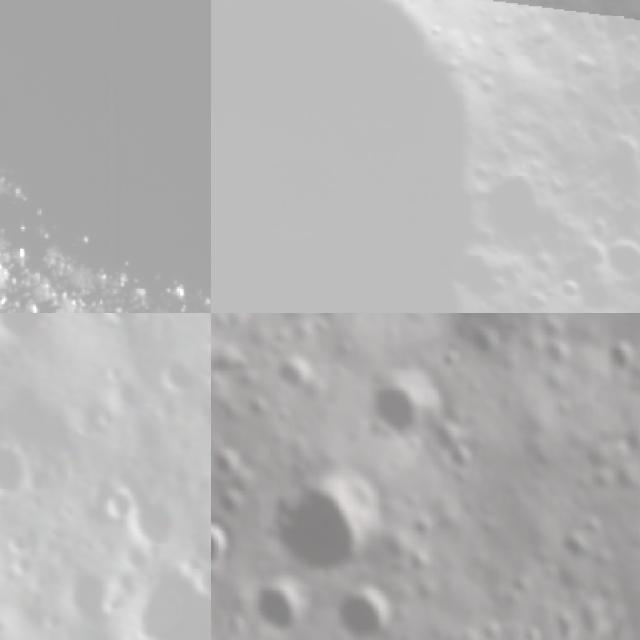crater: (267, 462, 392, 580), (356, 368, 450, 450), (113, 568, 211, 640), (246, 568, 319, 640), (57, 562, 123, 626), (330, 580, 397, 640), (596, 228, 640, 293), (550, 520, 602, 570), (156, 349, 202, 405), (607, 323, 640, 394), (274, 353, 318, 402), (0, 313, 50, 354), (0, 439, 31, 503), (530, 332, 573, 372), (98, 490, 140, 527), (442, 438, 482, 474), (211, 518, 238, 570), (96, 313, 147, 334), (4, 525, 34, 558), (211, 446, 239, 477), (438, 347, 464, 379), (15, 558, 42, 587)
